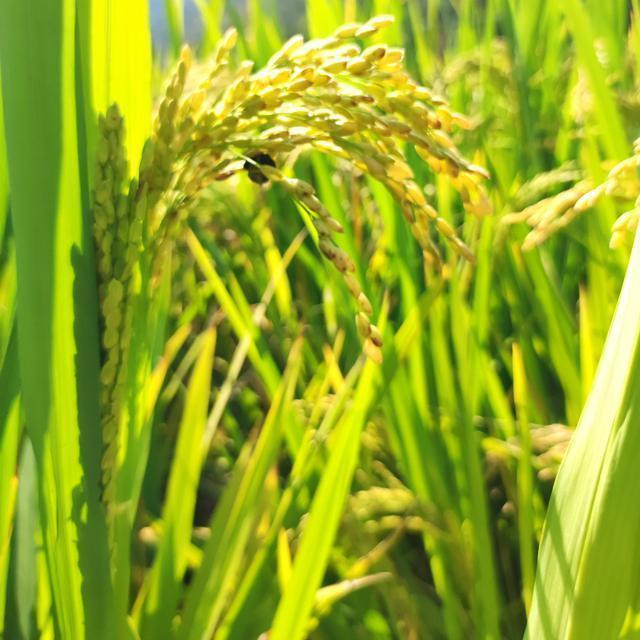Leaf_Scald: (242, 150, 280, 188)
